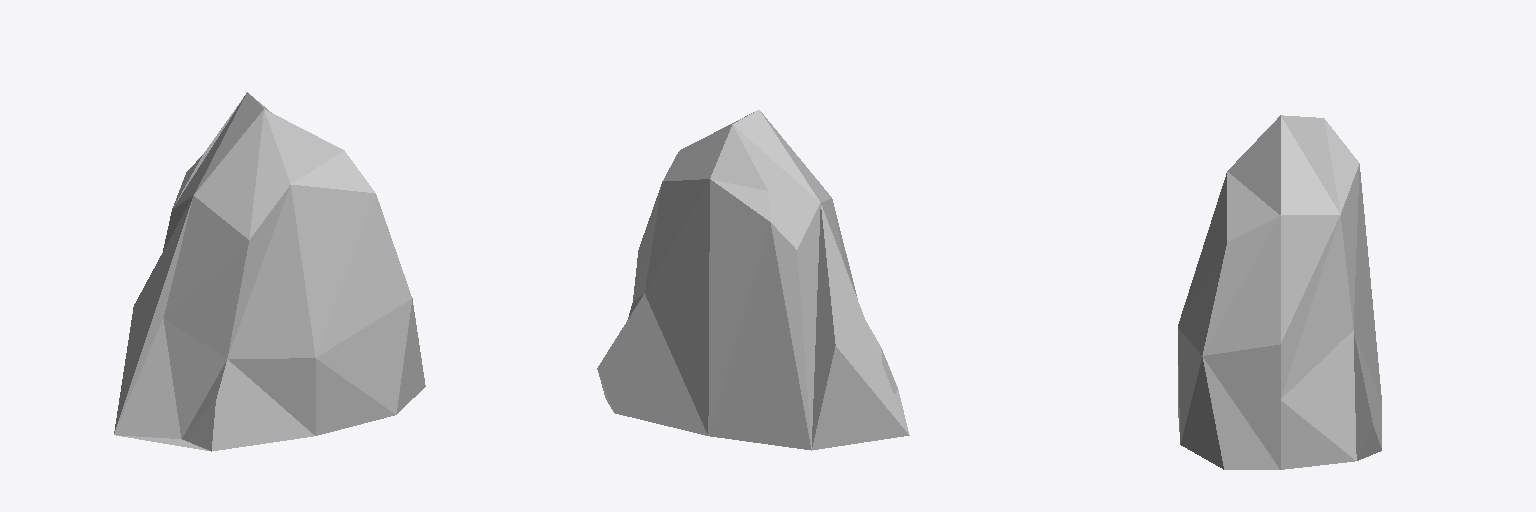
File: rock.obj
The picture shows the model from 3 angles: view 1: azimuth 30°, elevation 25°; view 2: azimuth 150°, elevation 25°; view 3: azimuth 270°, elevation 25°; orthographic projection.
Parts seen in each view (by area): view 1: mesh_0; view 2: mesh_0; view 3: mesh_0.
Part boxes in pixels (x1,y1,x2,y2): mesh_0: (114,92,425,451); mesh_0: (597,110,909,450); mesh_0: (1178,115,1381,469).
Size of the model in its own units: 4.24 by 4.13 by 2.65.